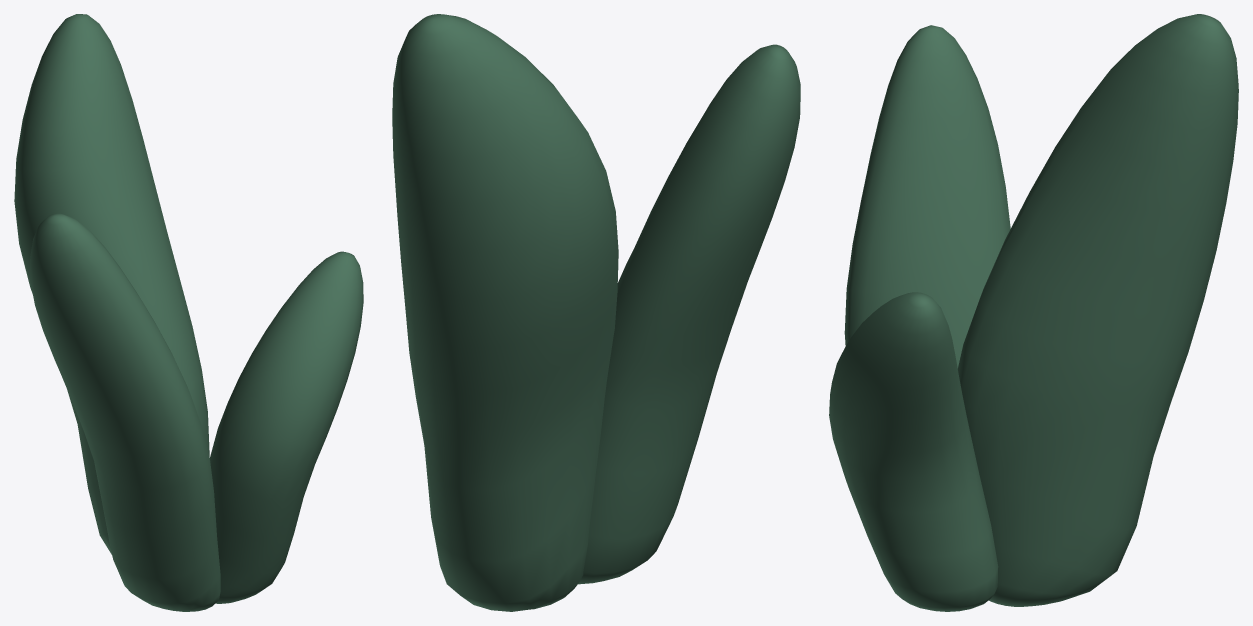
Rendered from sm_grass_01.fbx.
3 views of the same model, side by side, from view 1: azimuth 30°, elevation 25°; view 2: azimuth 150°, elevation 25°; view 3: azimuth 270°, elevation 25° (orthographic). The views are drawn at different scales.
Visible parts, largest first — view 1: sm_grass_01; view 2: sm_grass_01; view 3: sm_grass_01.
Part boxes in pixels (x1,y1,x2,y2): sm_grass_01: (14, 14, 363, 611); sm_grass_01: (392, 14, 800, 611); sm_grass_01: (829, 14, 1238, 611).
Bounding box in the file's own units: 2.33 × 3.63 × 2.33.
